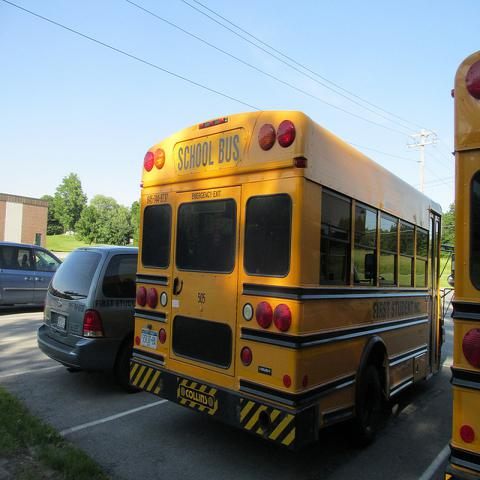bus: (130, 110, 448, 449), (447, 47, 479, 474)
car: (39, 246, 141, 392), (0, 243, 62, 315)
